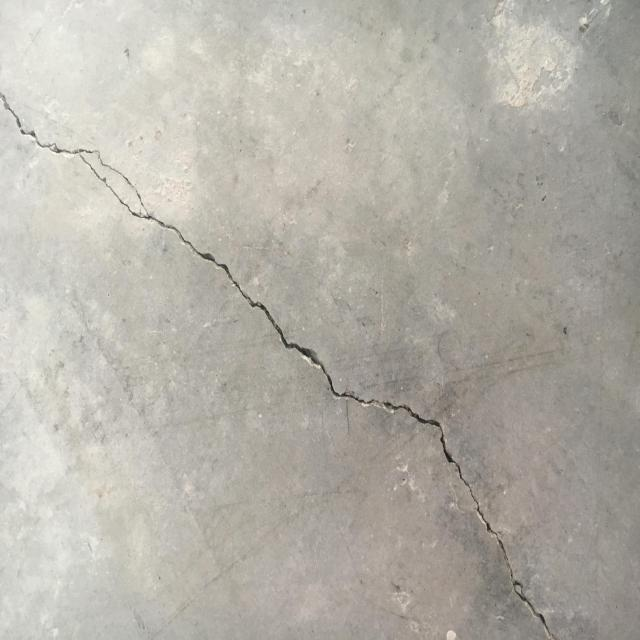SurfaceCrack: (0, 5, 623, 639)
